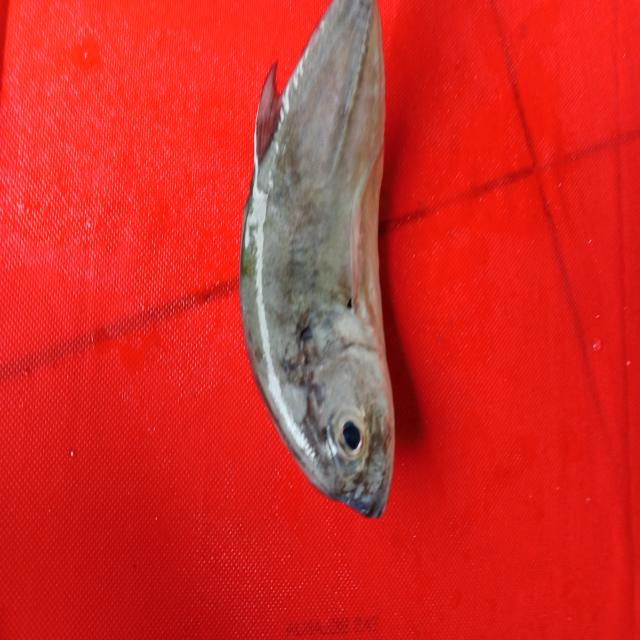ikan: (214, 3, 425, 518)
